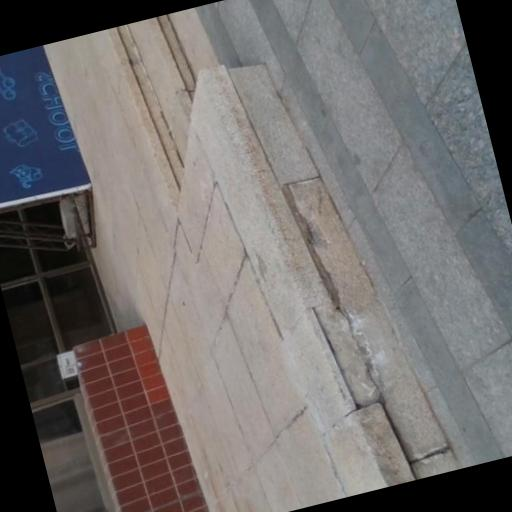stairs: (127, 14, 195, 158)
